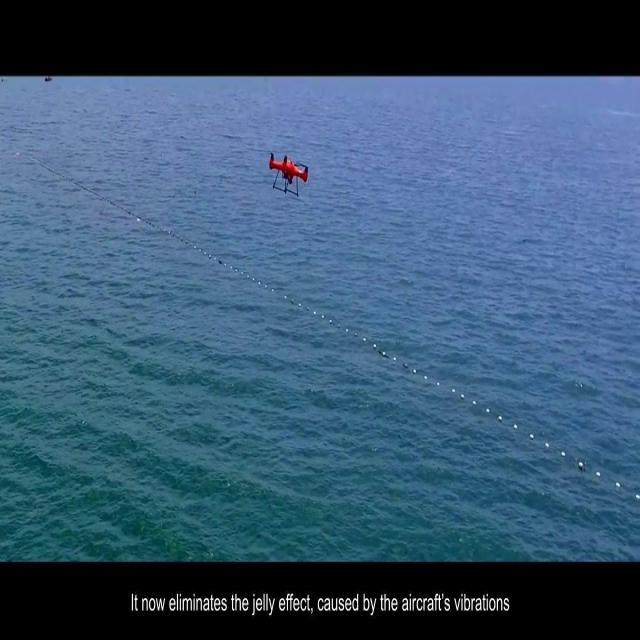drone: (268, 150, 312, 202)
